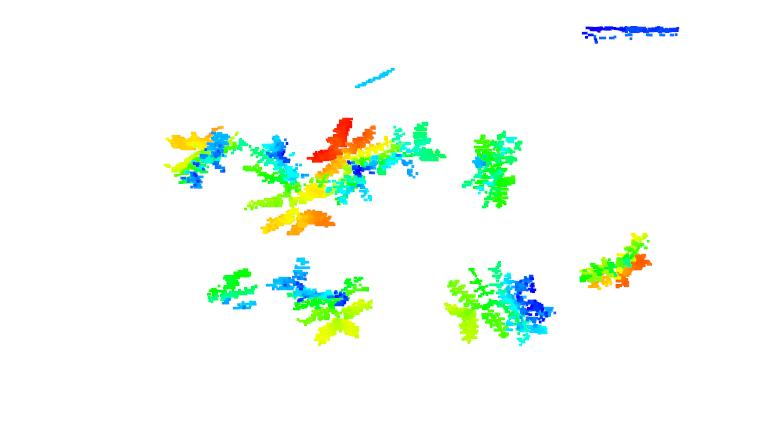chickpea: (304, 116, 440, 206), (443, 257, 558, 347), (247, 129, 336, 241), (273, 254, 378, 347), (162, 118, 239, 198), (576, 231, 662, 290), (465, 130, 527, 209), (206, 262, 262, 316)
